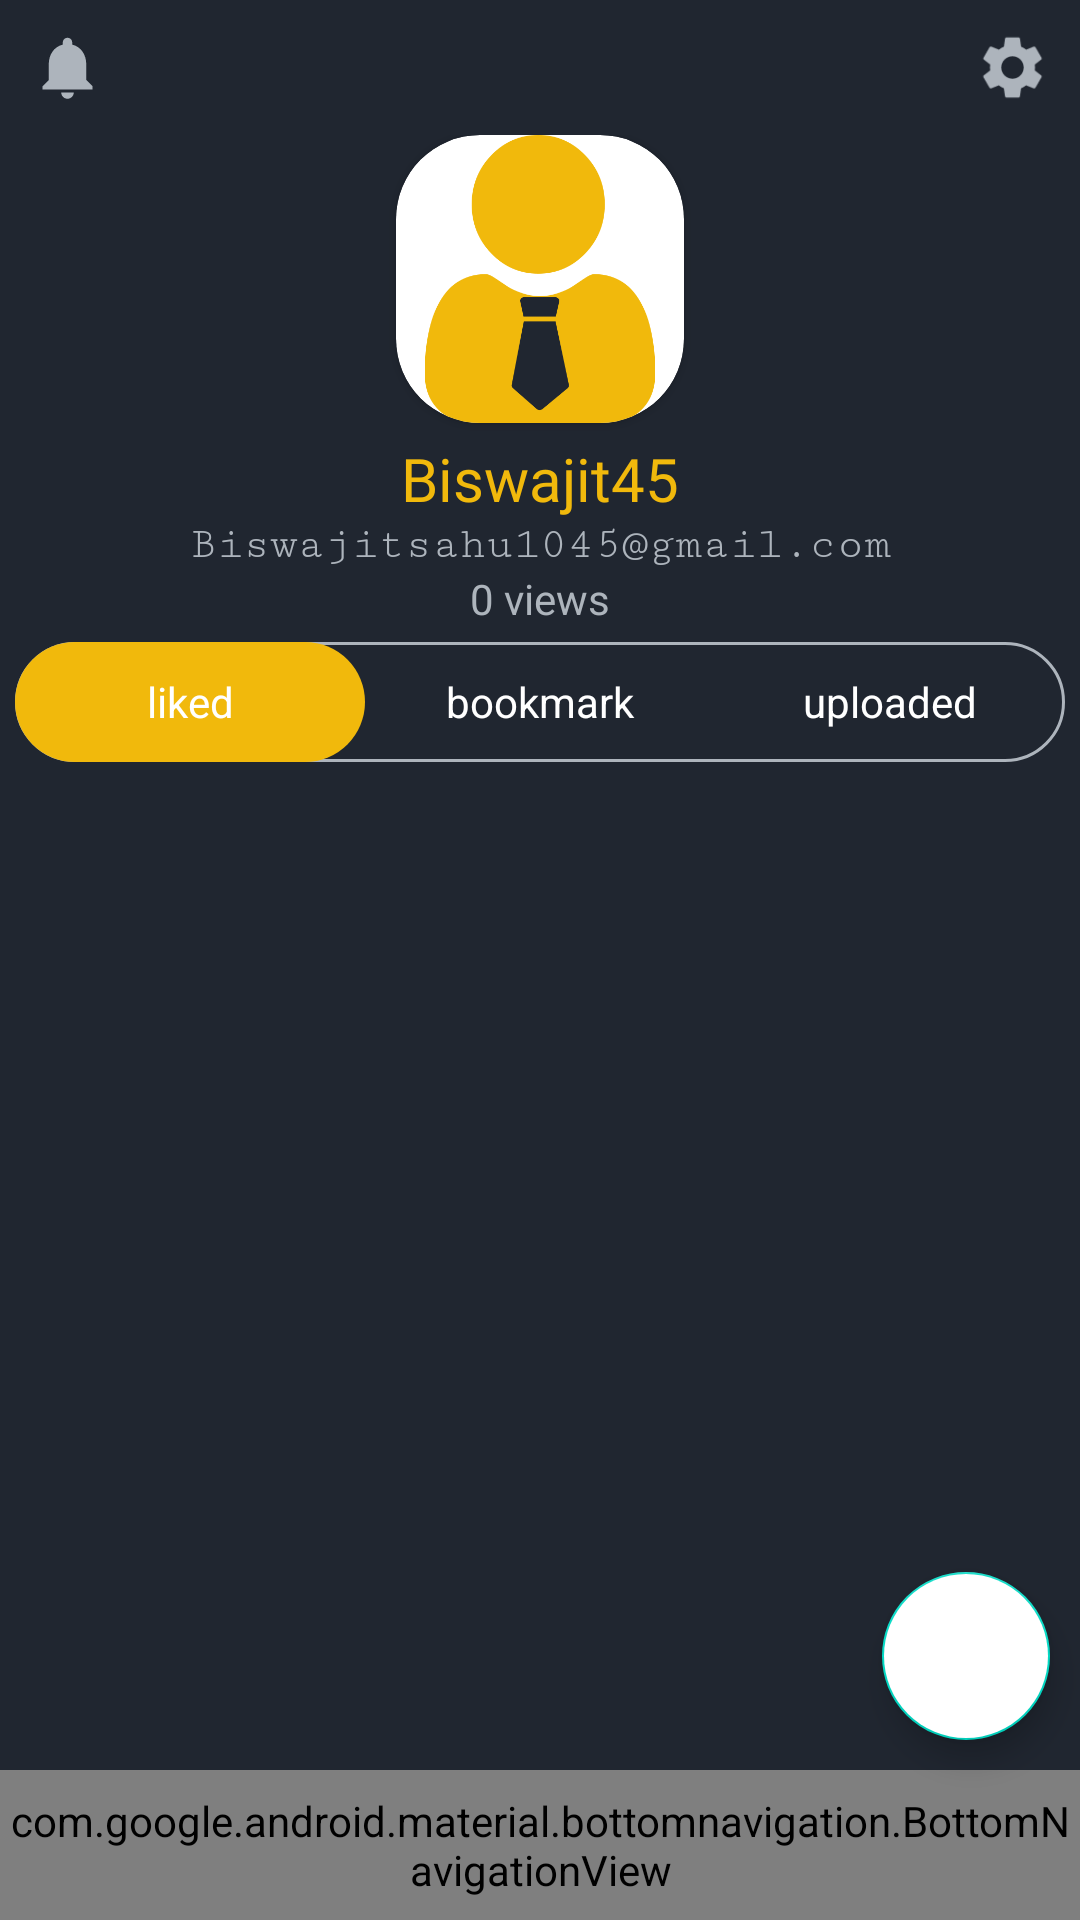

Where to tap for icons on this 1080px x 1920px app screen, as [x,y]:
notifications: [67,68]
settings: [1012,67]
user click: [540,279]
